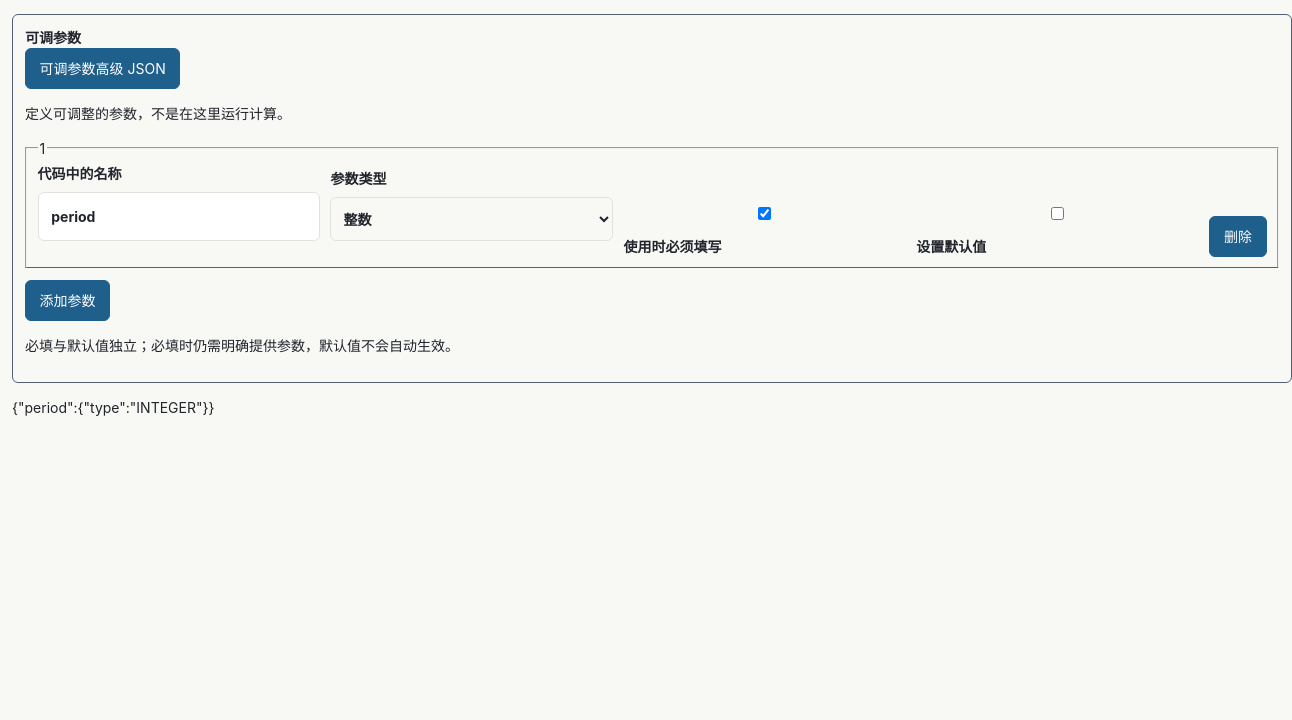
Test case: confirms the explicit required companion patch and can undo it without coercing defaults
Click the checkbox named "可调参数第 1 项设置默认值": (1058, 214) x1=916 y1=207 x2=1199 y2=220
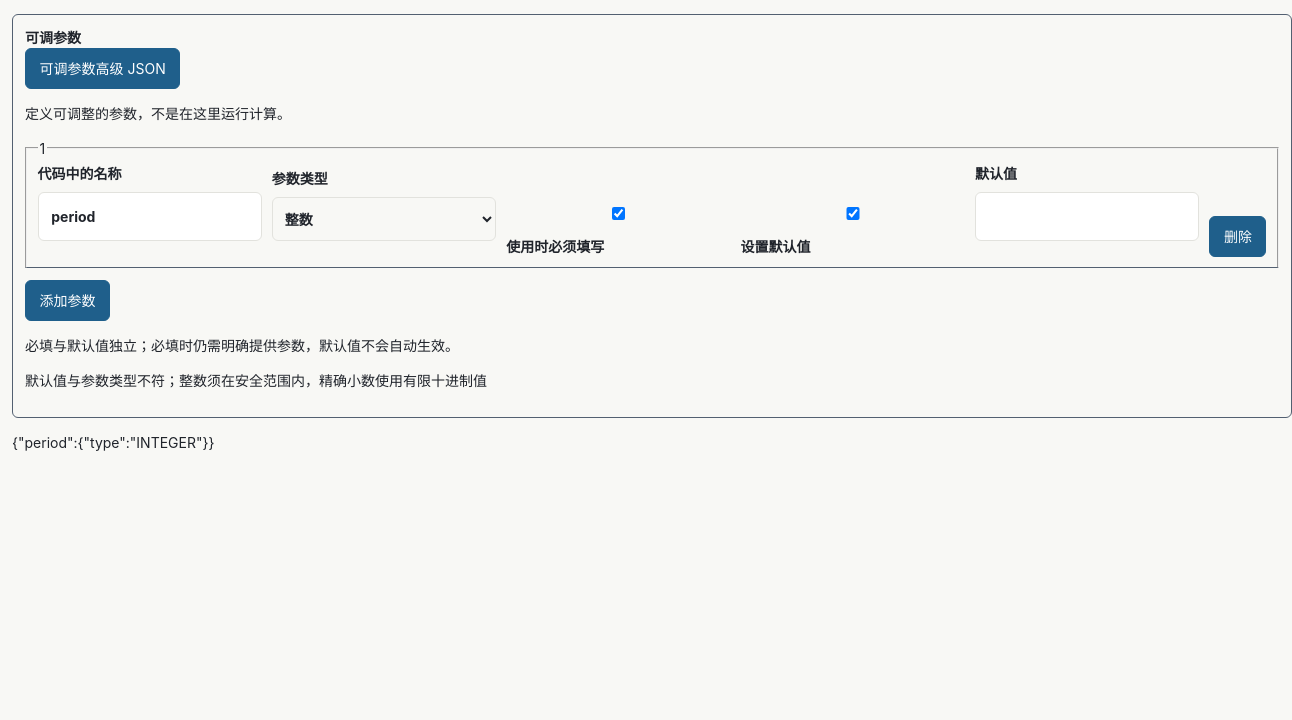
In the field named "可调参数第 1 项默认值": (1087, 217) x1=975 y1=192 x2=1199 y2=241, type "20"
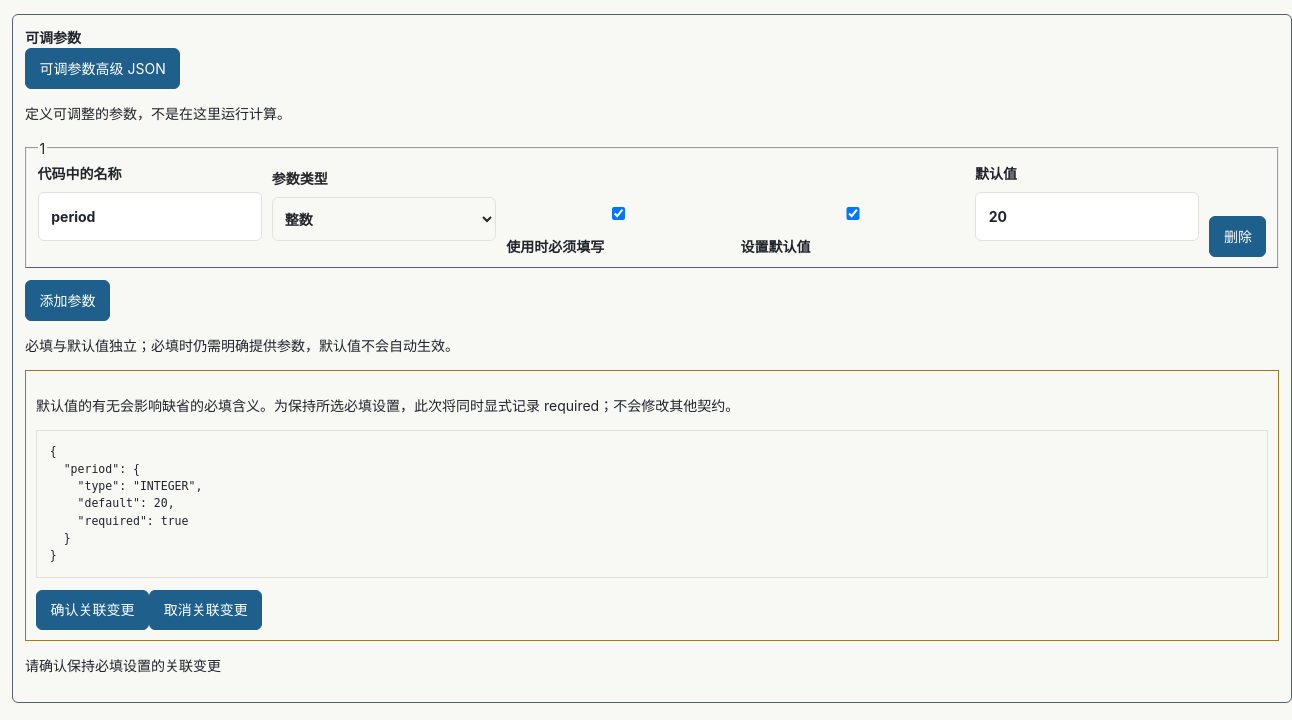
expect the checkbox named "可调参数第 1 项使用时必须填写" is checked: met, box x1=506 y1=207 x2=731 y2=220
Click the button "确认关联变更": (93, 610) x1=36 y1=590 x2=149 y2=630
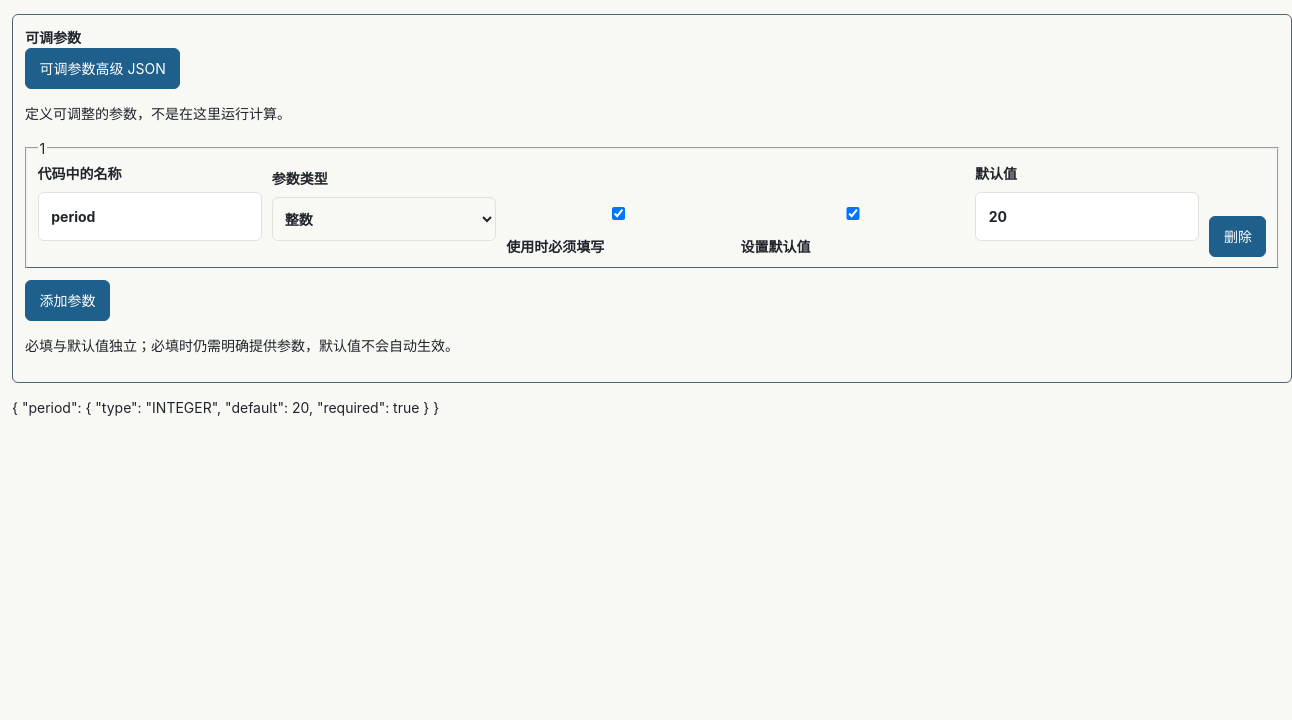
Click the checkbox named "可调参数第 1 项设置默认值": (853, 214) x1=741 y1=207 x2=965 y2=220
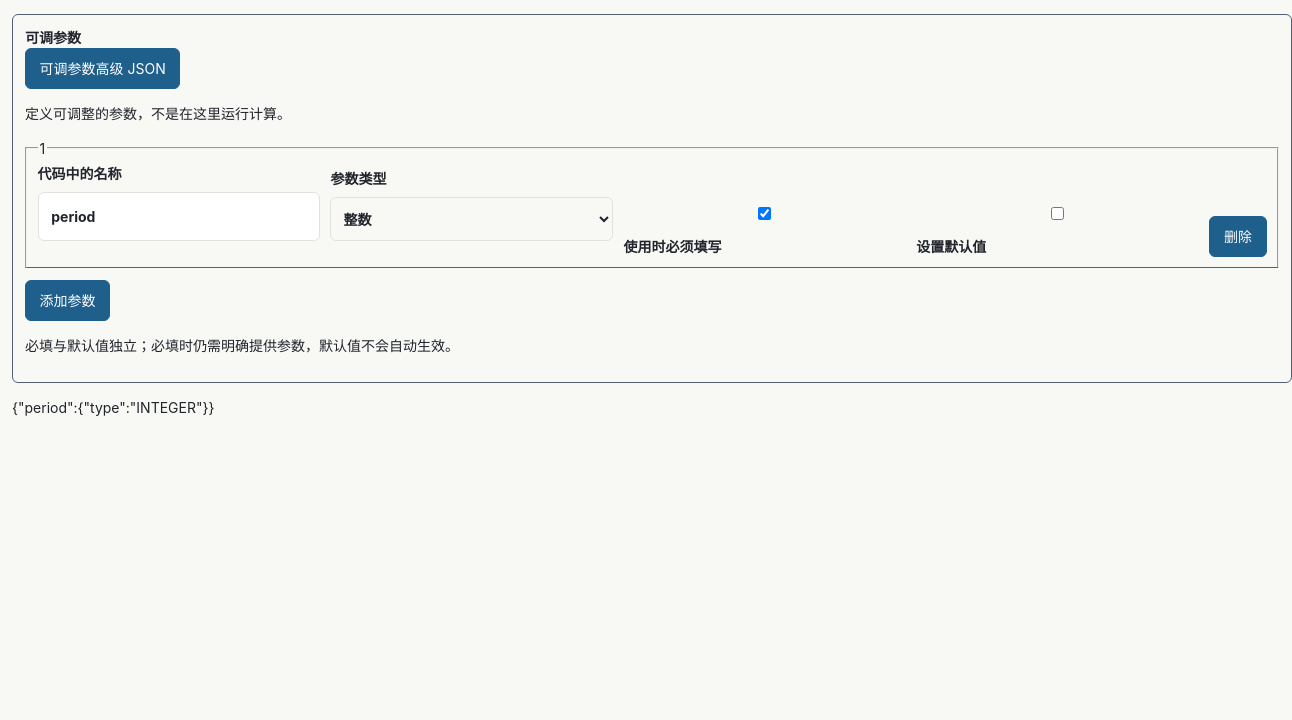
expect the text with test id "raw" reads "{\"period\":{\"type\":\"INTEGER\"}}": met, box x1=12 y1=399 x2=214 y2=416
